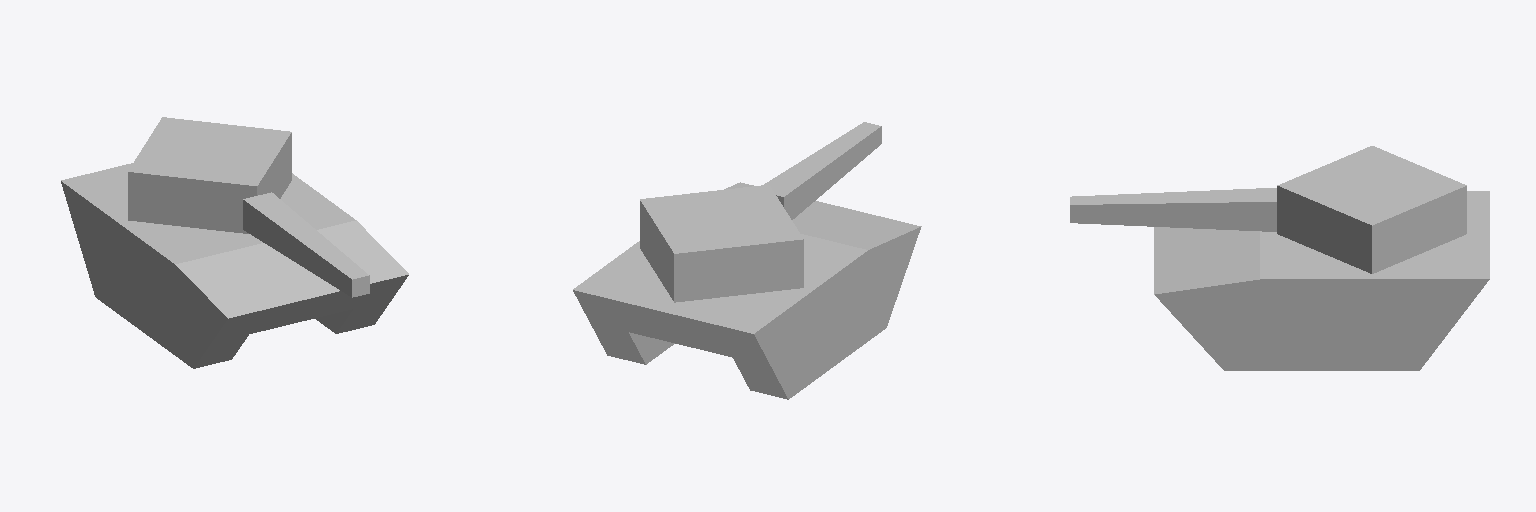
File: tankmdl.obj
3 views of the same model, side by side, from view 1: azimuth 30°, elevation 25°; view 2: azimuth 150°, elevation 25°; view 3: azimuth 270°, elevation 25° (orthographic).
Parts seen in each view (by area): view 1: Cube, Cube.001; view 2: Cube, Cube.001; view 3: Cube, Cube.001.
Boxes of the visible parts, x1=… form: Cube: x1=61, y1=163, x2=408, y2=368; Cube.001: x1=128, y1=117, x2=369, y2=297; Cube: x1=573, y1=182, x2=921, y2=399; Cube.001: x1=640, y1=122, x2=881, y2=302; Cube: x1=1154, y1=191, x2=1489, y2=370; Cube.001: x1=1070, y1=146, x2=1466, y2=273.
Size of the model in its own units: 1.25 by 0.9268 by 2.5.